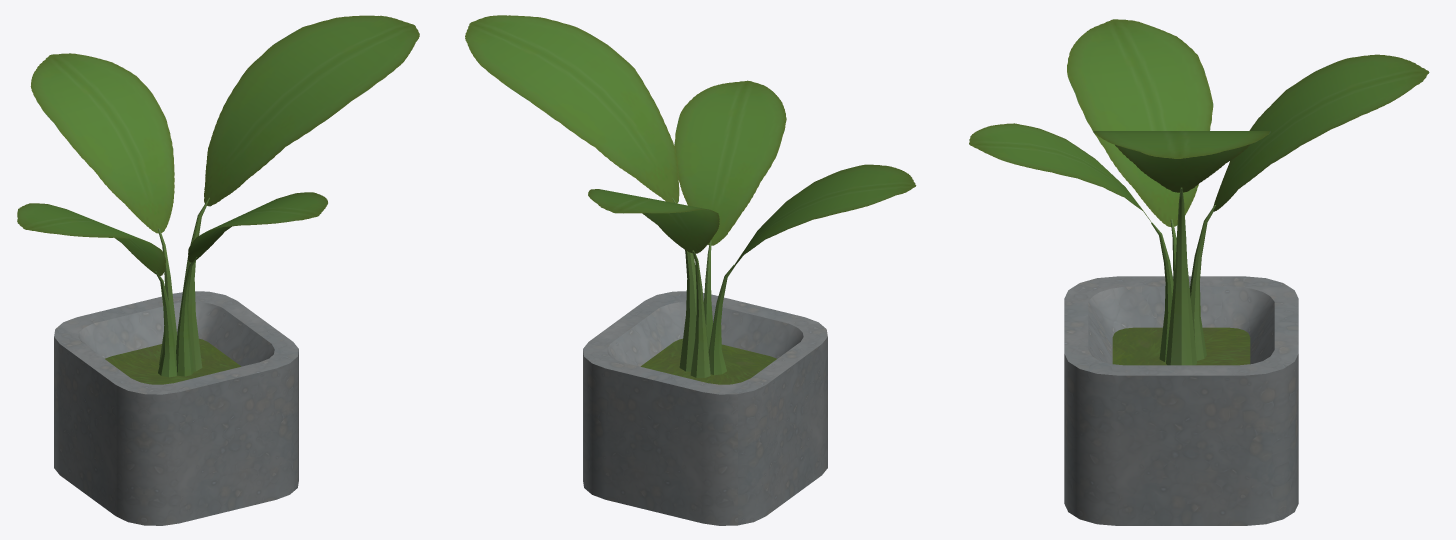
File: flower_pot_big_1.glb
The picture shows the model from 3 angles, left to right: view 1: azimuth 30°, elevation 25°; view 2: azimuth 150°, elevation 25°; view 3: azimuth 270°, elevation 25°; orthographic projection. The views are drawn at different scales.
Visible parts, largest first — view 1: plant_pot_1; view 2: plant_pot_1; view 3: plant_pot_1.
Part boxes in pixels (x1,y1,x2,y2): plant_pot_1: [17, 15, 419, 525]; plant_pot_1: [465, 15, 916, 525]; plant_pot_1: [969, 19, 1429, 525].
Size of what is drawn, in the model's own units: 1.97 by 1.68 by 1.64.
3 materials, 3 textured.
